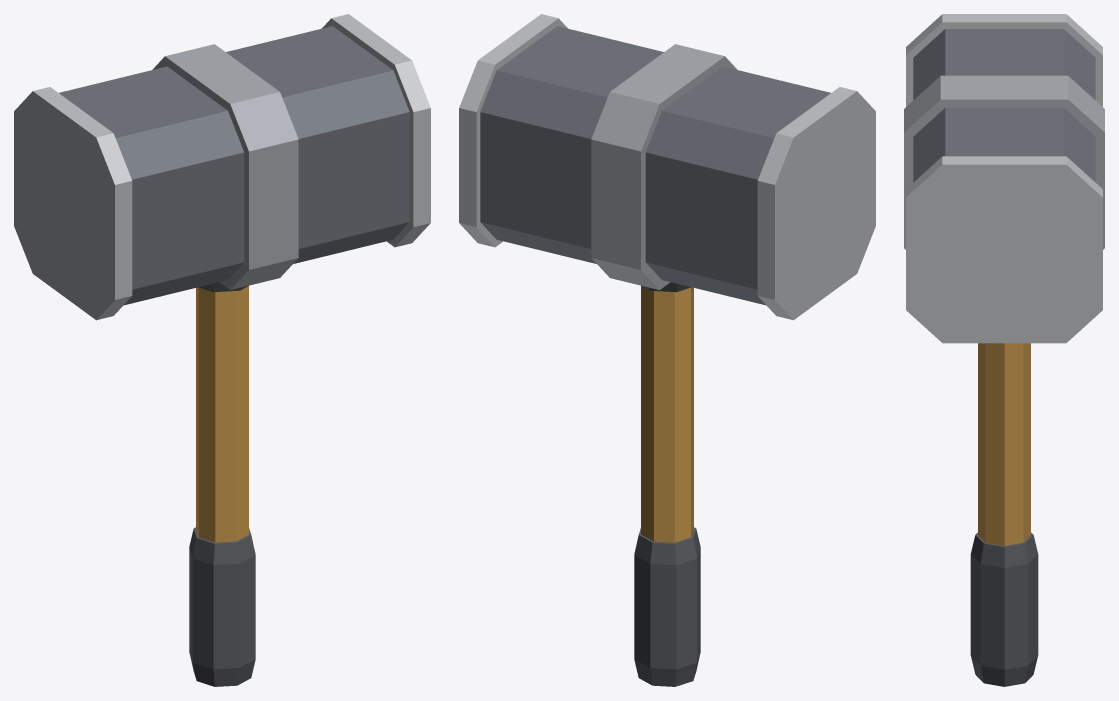
The model's file is CT_Rocks_SteelHammer.glb.
3 views of the same model, side by side, from view 1: azimuth 30°, elevation 25°; view 2: azimuth 150°, elevation 25°; view 3: azimuth 270°, elevation 25° (orthographic). The views are drawn at different scales.
Parts seen in each view (by area): view 1: CT_Rocks_SteelHammer; view 2: CT_Rocks_SteelHammer; view 3: CT_Rocks_SteelHammer.
Part boxes in pixels (left/top/right/bottom): CT_Rocks_SteelHammer: left=14, top=14, right=430, bottom=686; CT_Rocks_SteelHammer: left=459, top=14, right=875, bottom=686; CT_Rocks_SteelHammer: left=904, top=14, right=1104, bottom=686.
Bounding box in the file's own units: 2.54 × 4.62 × 1.43.
